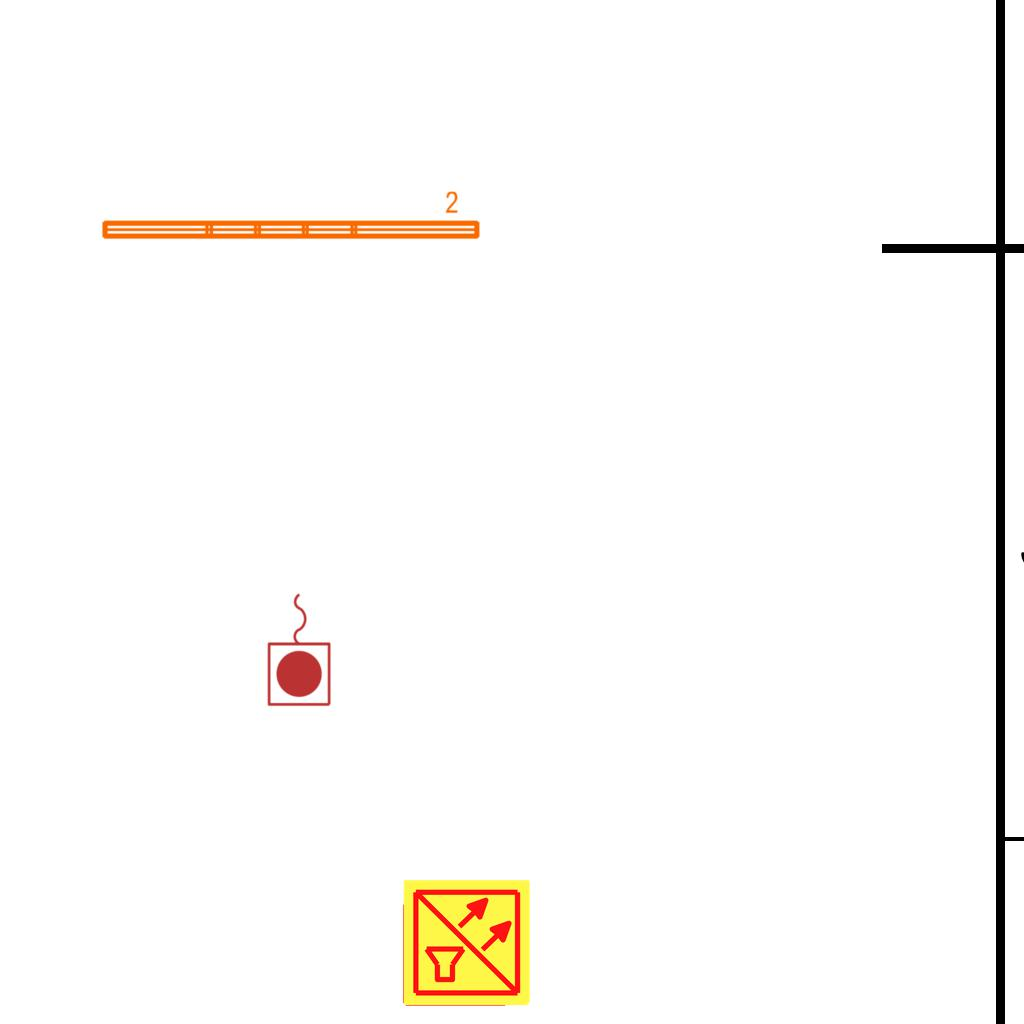Ambulanz_Pendelleuchte_LED: (97, 189, 484, 245)
OKW_Multisensormelder_(Kombination_optischer_Rauch-Kahlenmonoxid_Waerme-Melder): (401, 877, 533, 1009)
Zugtaster: (264, 588, 336, 710)
